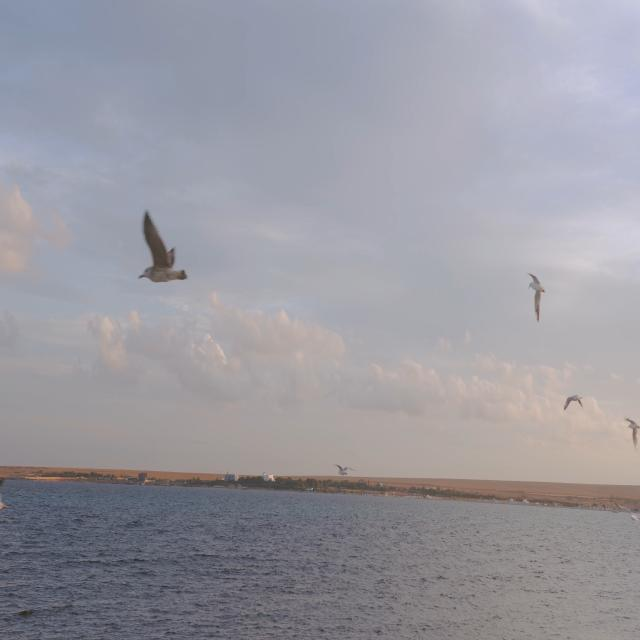bird: (134, 203, 189, 305), (524, 262, 548, 328), (560, 380, 589, 420), (620, 415, 640, 444)
